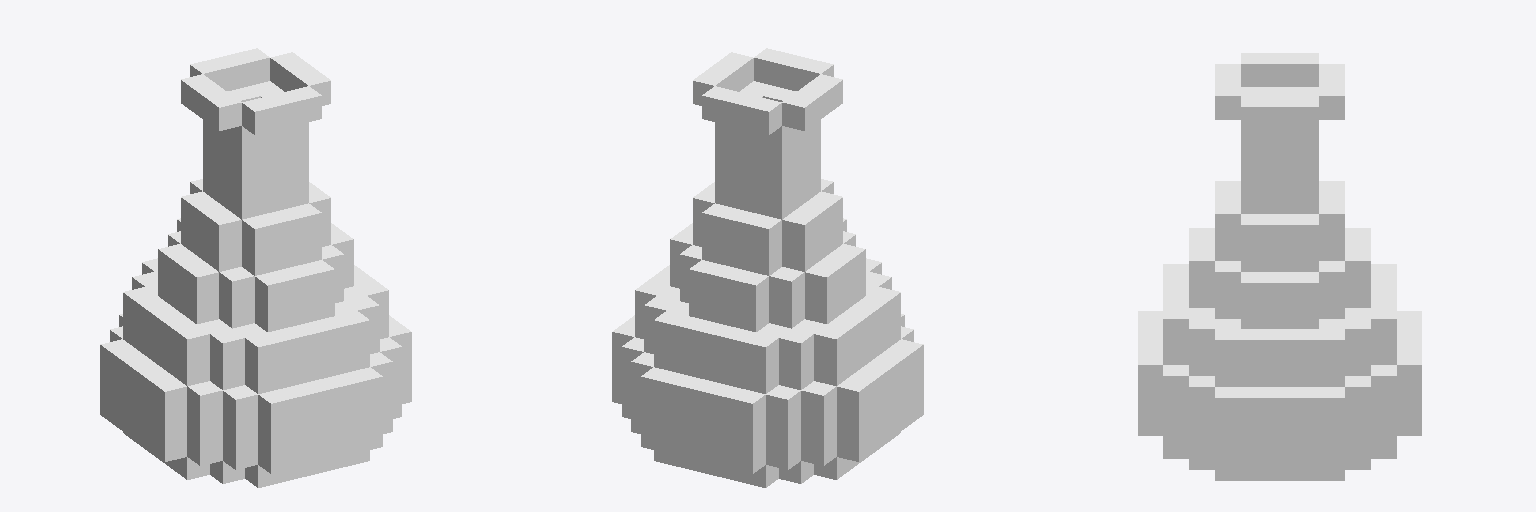
Rendered from erlenmeyer.obj.
3 renders of one model, left to right at view 1: azimuth 30°, elevation 25°; view 2: azimuth 150°, elevation 25°; view 3: azimuth 270°, elevation 25°, orthographic.
Parts seen in each view (by area): view 1: erlenmeyer; view 2: erlenmeyer; view 3: erlenmeyer.
Part boxes in pixels (x1,y1,x2,y2): erlenmeyer: (100,48,411,487); erlenmeyer: (612,48,923,487); erlenmeyer: (1138,53,1421,480).
Size of the model in its own units: 11 by 15 by 11.